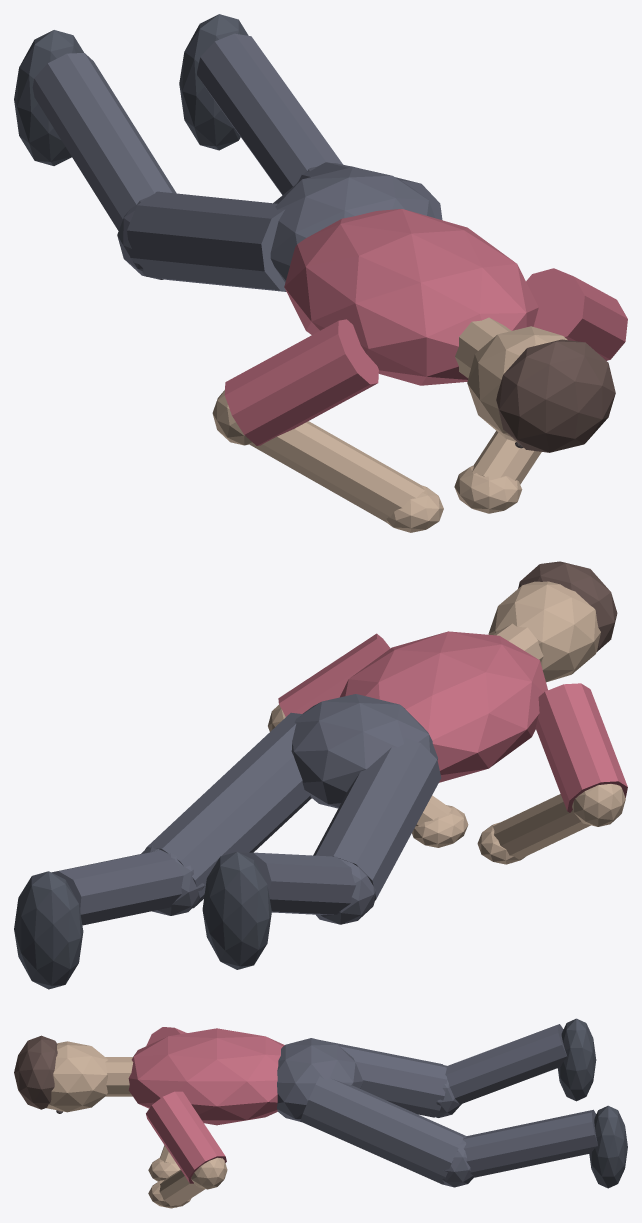
3 views of the same model, one above another, from view 1: azimuth 30°, elevation 25°; view 2: azimuth 150°, elevation 25°; view 3: azimuth 270°, elevation 25° (orthographic). The views are drawn at different scales.
Parts seen in each view (by area): view 1: world; view 2: world; view 3: world.
Boxes of the visible parts, left/top/right/bottom form: world: left=14, top=14, right=627, bottom=532; world: left=14, top=561, right=627, bottom=989; world: left=14, top=1018, right=627, bottom=1208.
Bounding box in the file's own units: 0.93 × 0.57 × 2.01.
